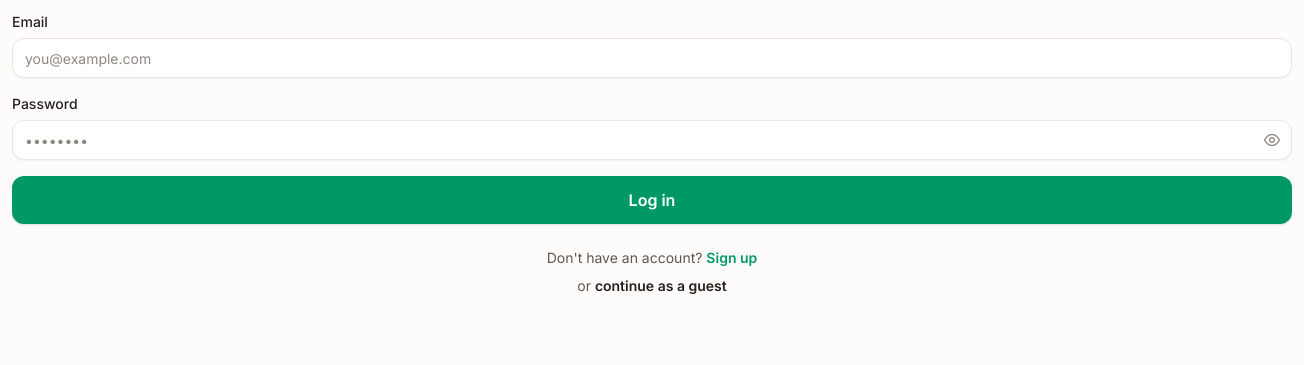
it: CredentialsForm › explains wrong credentials
The width and height of the screenshot is (1304, 365).
Type "me@example.com" into the field labelled "Email".
click(652, 58); type("me@example.com")  # box x1=12 y1=38 x2=1292 y2=78
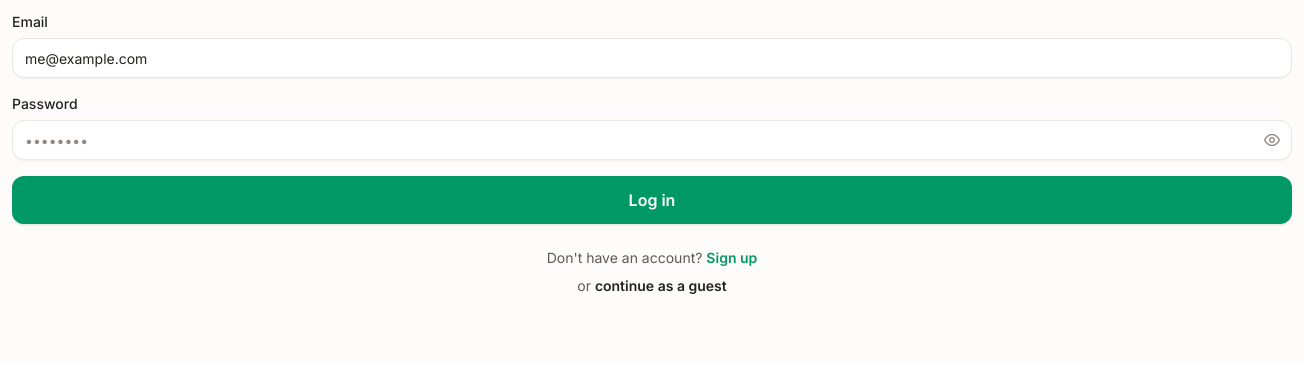
Type "wrong" into the password field labelled "Password".
click(652, 140); type("wrong")  # box x1=12 y1=120 x2=1292 y2=160
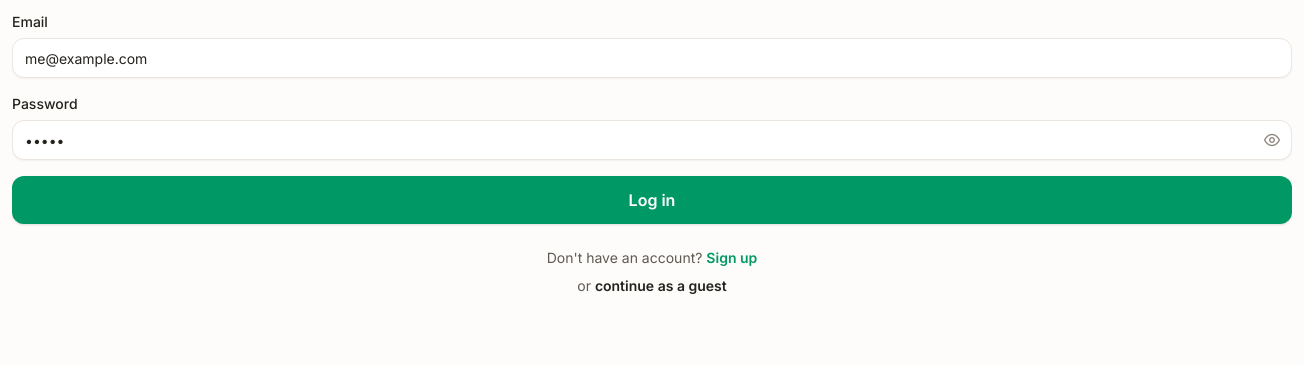
Submit the form, box x1=12 y1=12 x2=1292 y2=224
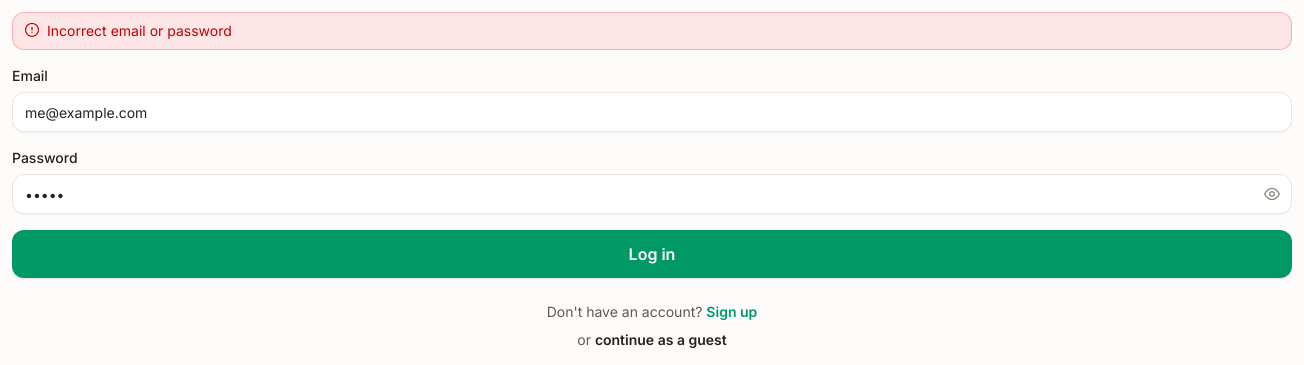
Check: the message "Incorrect email or password" is shown, box x1=12 y1=12 x2=1292 y2=50
